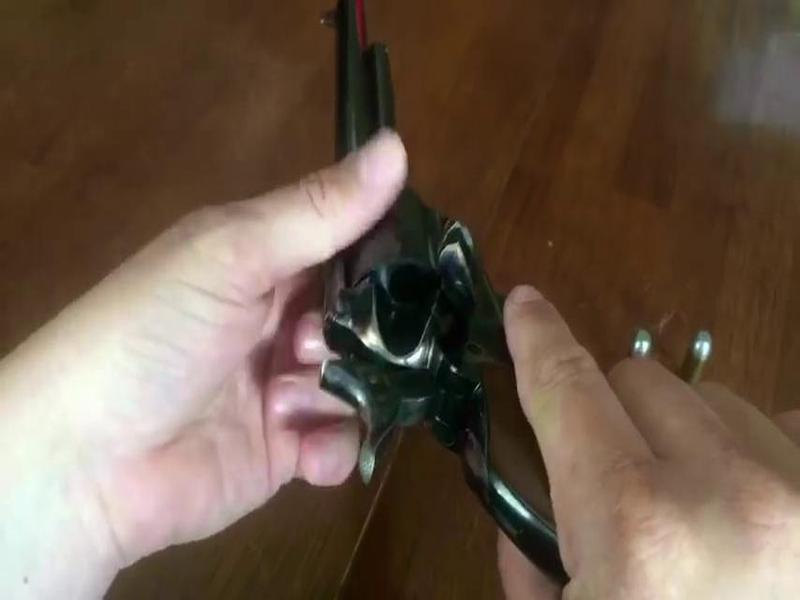Revolver: (280, 23, 555, 510)
